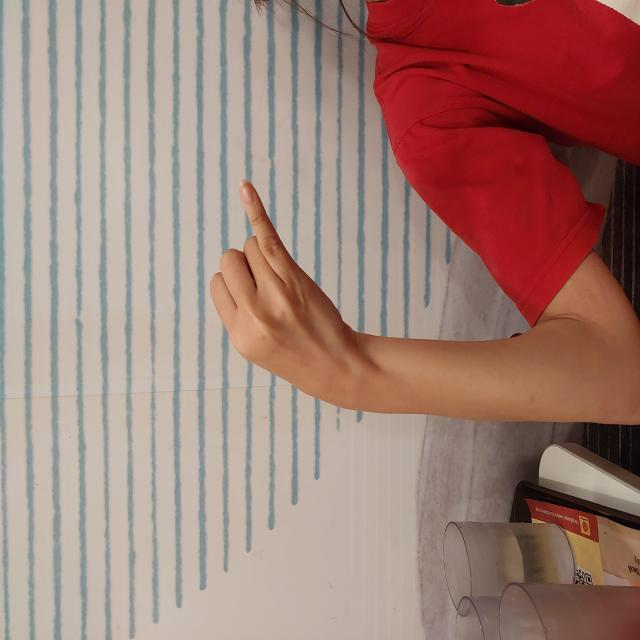J: (238, 207, 462, 363)
